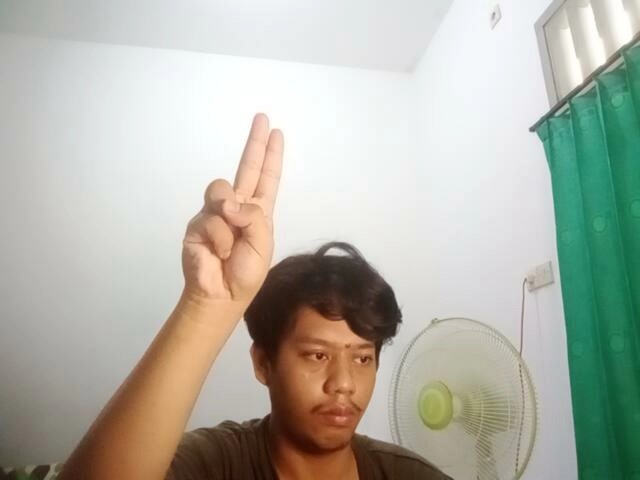U: (156, 103, 294, 309)
